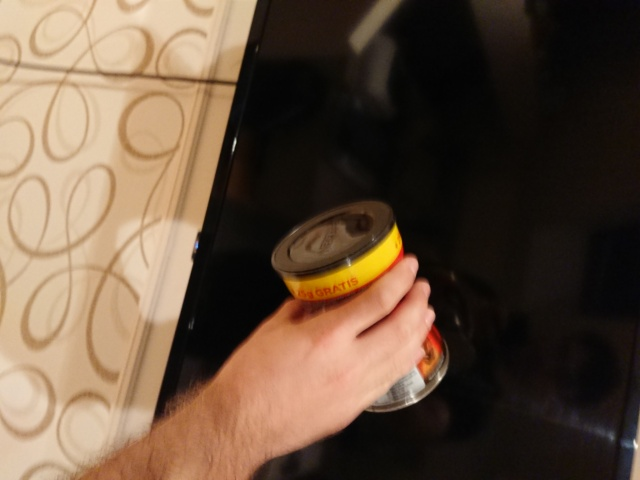Nescafe Classic 225g: (268, 197, 452, 416)
